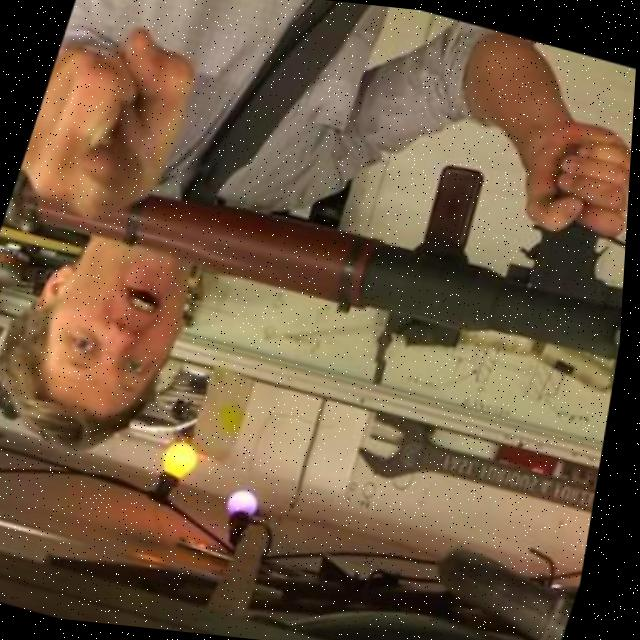rocket: (87, 82, 636, 386)
